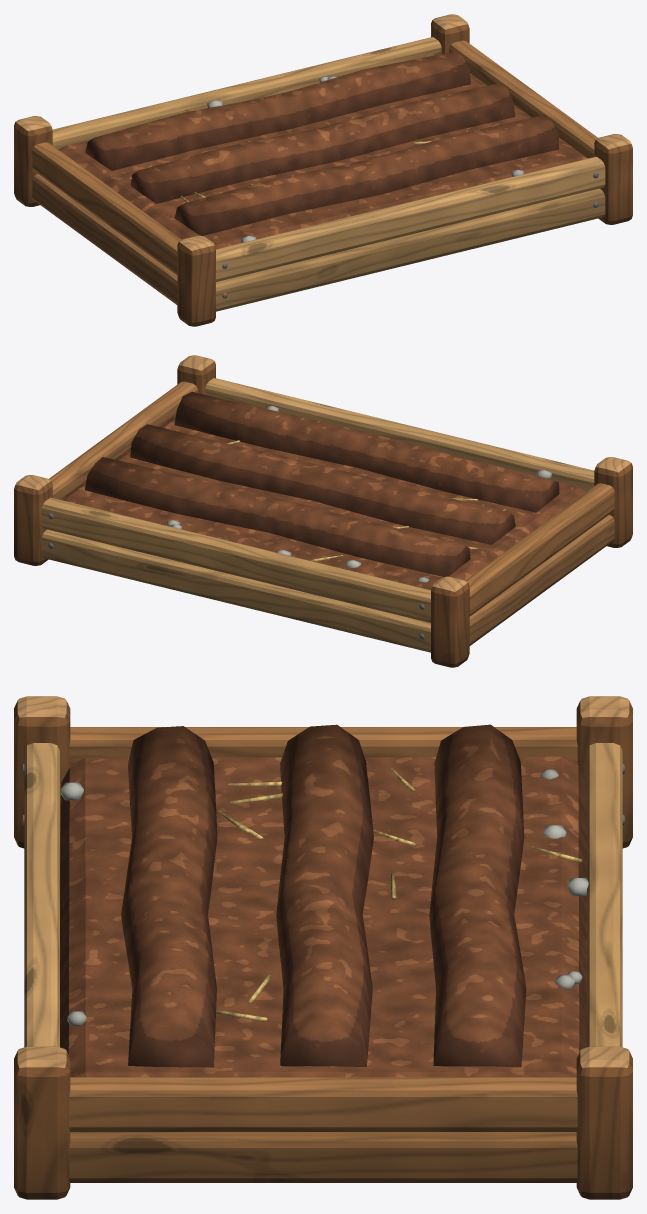
Rendered from garden_bed.glb.
The picture shows the model from 3 angles, top to bottom: view 1: azimuth 30°, elevation 25°; view 2: azimuth 150°, elevation 25°; view 3: azimuth 270°, elevation 25°; orthographic projection. The views are drawn at different scales.
Parts seen in each view (by area): view 1: Soil, Bed, BedDeco; view 2: Soil, Bed, BedDeco; view 3: Soil, Bed, BedDeco.
Part boxes in pixels (x1,y1,x2,y2): Soil: [58, 51, 587, 249]; Bed: [14, 14, 632, 326]; BedDeco: [86, 76, 524, 242]; Soil: [60, 391, 586, 590]; Bed: [14, 355, 632, 667]; BedDeco: [166, 406, 551, 582]; Soil: [60, 724, 586, 1077]; Bed: [14, 696, 632, 1199]; BedDeco: [60, 767, 588, 1026].
Size of the model in its own units: 1.73 by 0.3098 by 1.21.
Materials: 1 (1 with a texture image).
